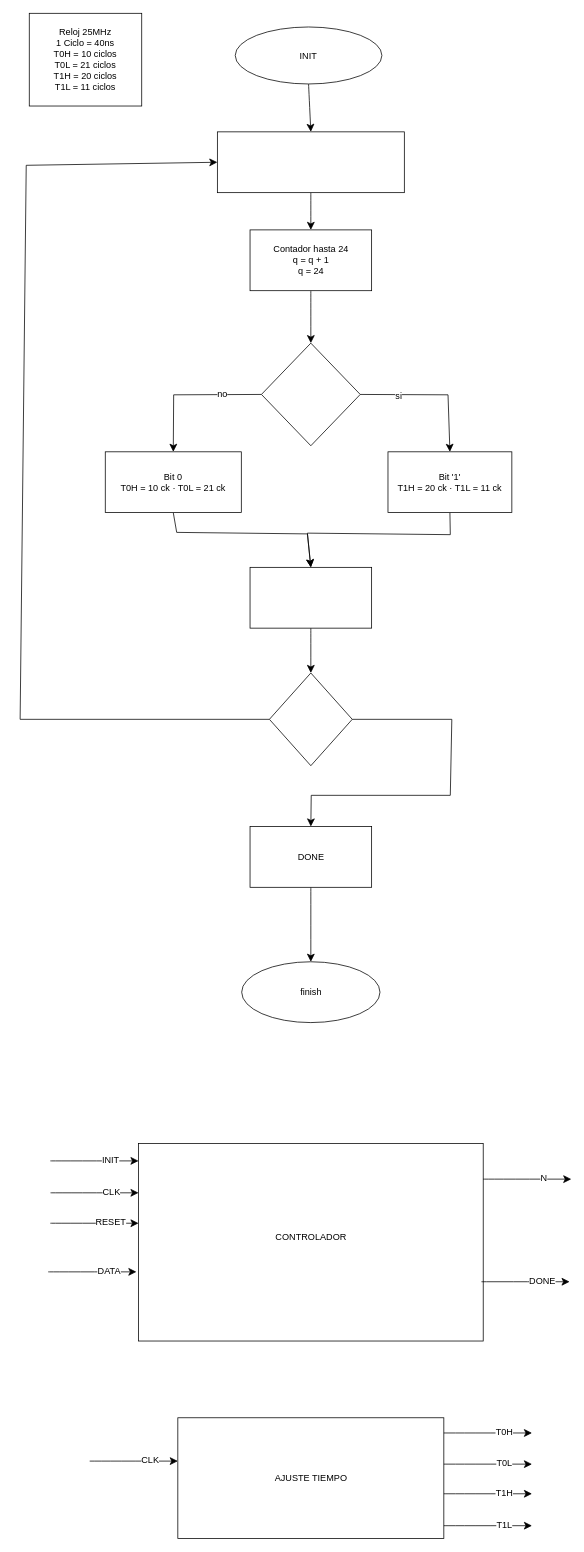
The diagram is 584 pixels wide and 1552 high, and some of its shapes have lost their labels. Here are the shapes that lost their labels. From the top down, the centre of each, then its label:
At pixel 310 162: "Cargar datos del LED 24 bits orden GRB · N = 23 (MSB primero)".
At pixel 310 394: "N=1?".
At pixel 310 597: "N=N-1".
At pixel 310 719: "N<0?".
